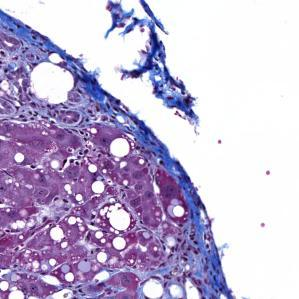fibrosis: (49, 98, 142, 155), (154, 230, 224, 282)
